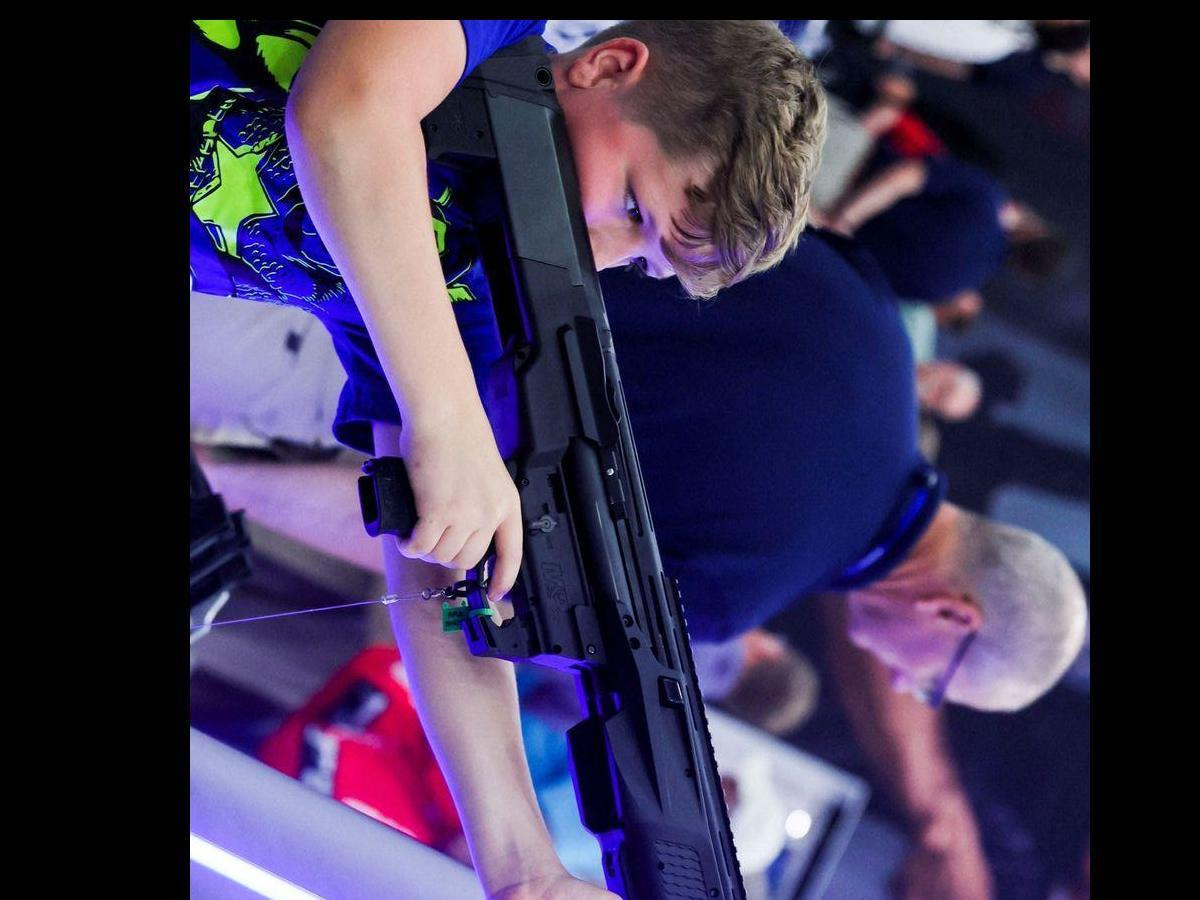gun: (114, 85, 226, 113)
person: (154, 56, 276, 407), (293, 56, 404, 405)
